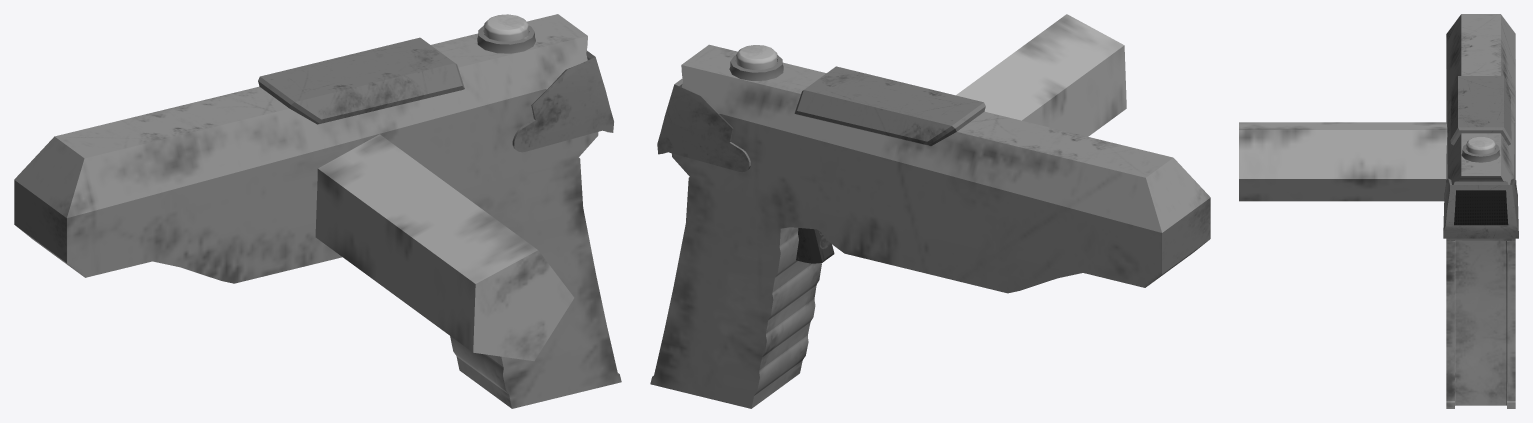
Rendered from Gun2.fbx.
3 views of the same model, side by side, from view 1: azimuth 30°, elevation 25°; view 2: azimuth 150°, elevation 25°; view 3: azimuth 270°, elevation 25° (orthographic). The views are drawn at different scales.
Visible parts, largest first — view 1: Gun, Pentagon, Screen, Button; view 2: Gun, Pentagon, Screen, Trigger, Button; view 3: Gun, Pentagon, Screen, Button.
Boxes of the visible parts, left/top/right/bottom form: Gun: left=14, top=14, right=621, bottom=408; Pentagon: left=315, top=134, right=574, bottom=360; Screen: left=512, top=50, right=613, bottom=152; Button: left=484, top=14, right=528, bottom=41; Gun: left=650, top=44, right=1210, bottom=408; Pentagon: left=956, top=14, right=1126, bottom=136; Screen: left=657, top=78, right=750, bottom=172; Trigger: left=796, top=228, right=834, bottom=263; Button: left=736, top=45, right=777, bottom=69; Gun: left=1446, top=14, right=1515, bottom=408; Pentagon: left=1239, top=122, right=1447, bottom=201; Screen: left=1443, top=178, right=1518, bottom=238; Button: left=1466, top=137, right=1495, bottom=154.
Size of the model in its own units: 7.66 by 4.79 by 5.09.
Materials: 1 (1 with a texture image).
